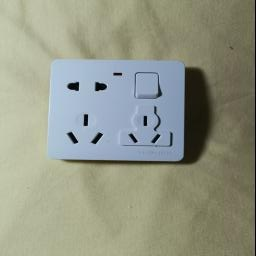outlet: (49, 53, 197, 172)
